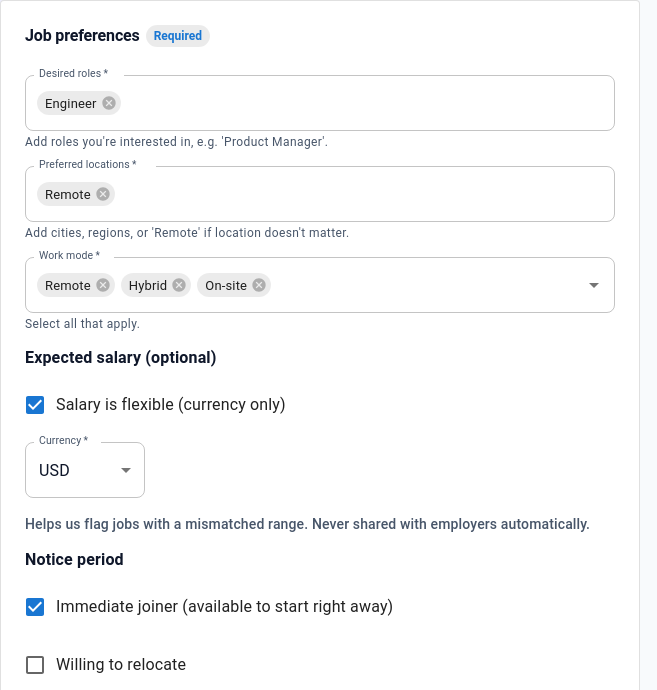
Scenario: JobPreferencesSection AA-023 › blocks save when salary max is less than min
Click the checkbox labelled "Salary is flexible (currency only)" at point(154, 405), box [23,393,286,417]
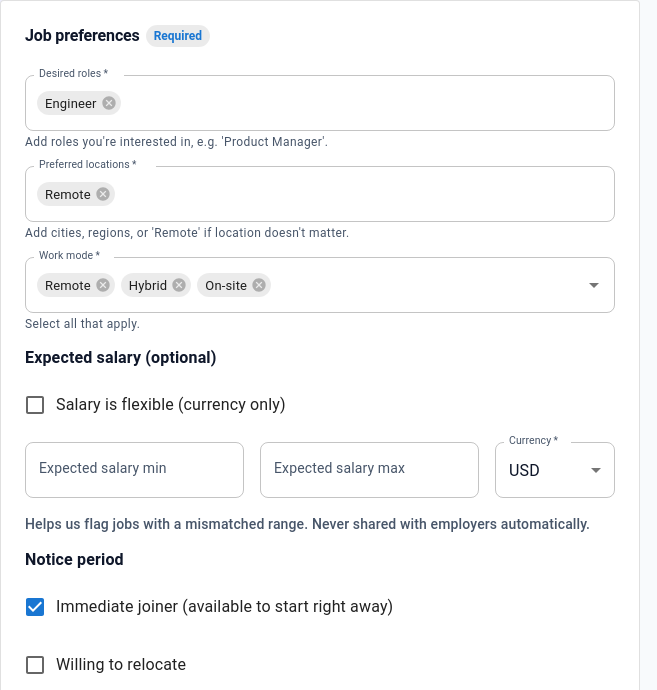
Type "90000" into the number field labelled "Expected salary min" at point(134, 470), box [25,442,244,498]
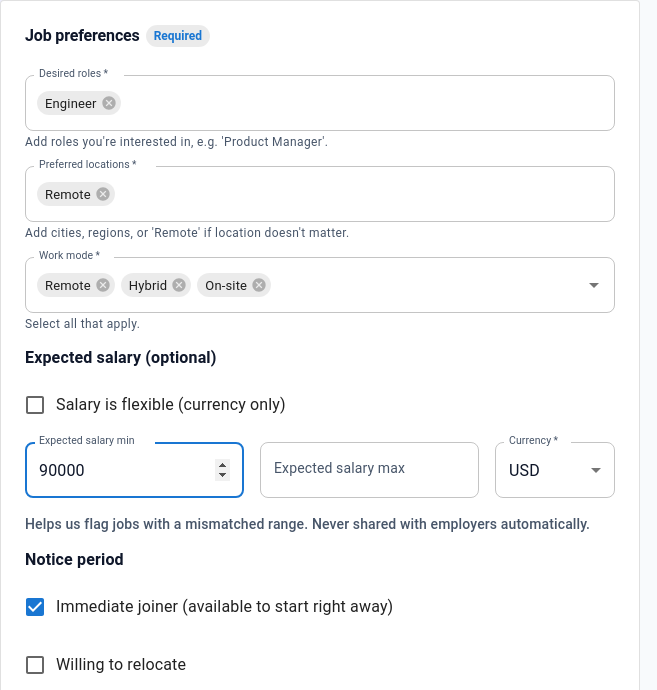
Type "50000" into the number field labelled "Expected salary max" at point(370, 470), box [260,442,479,498]
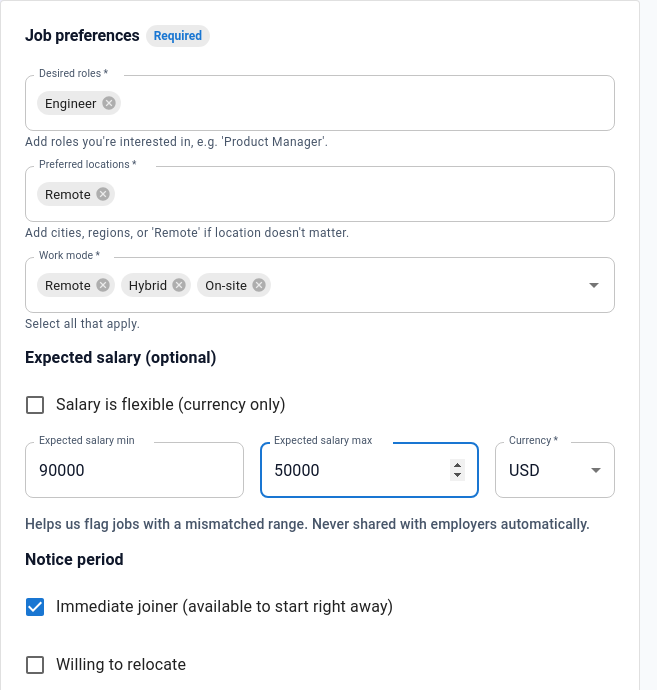
Press Tab
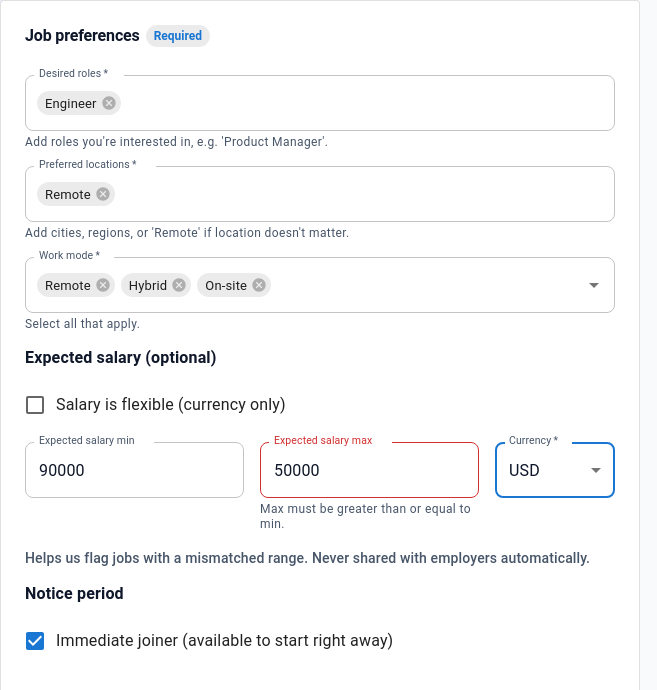
Result: the text "Max must be greater than or equal to min." is shown at [260,502,479,532]
